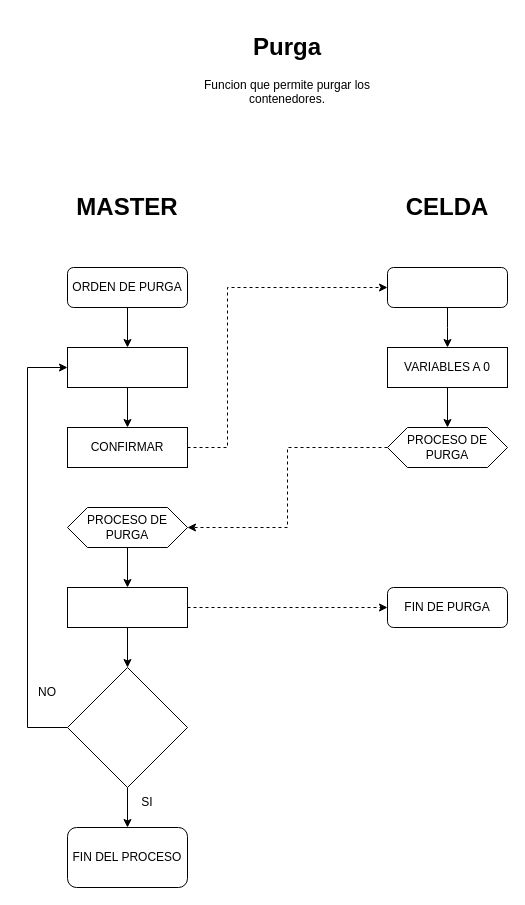
Image size: 525x905. Some labels were removed from this diagram. The shapes that lost their labels are listed below. From the top down, each one's centre as x and y in pixels, then its label:
the point at 447,287: SEÑAL DE PURGA
the point at 127,367: PRIMER CONTENEDOR
the point at 127,607: PURGA LISTA
the point at 127,727: ULTIMO CONTENEDOR
